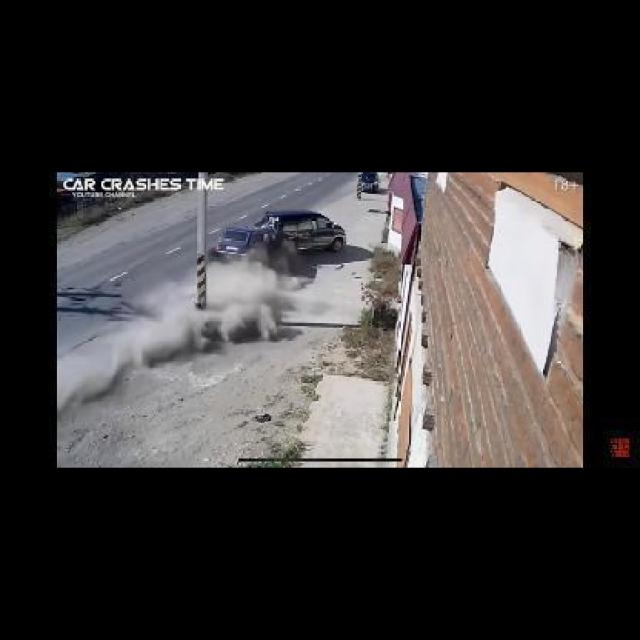accident: (208, 206, 349, 286)
